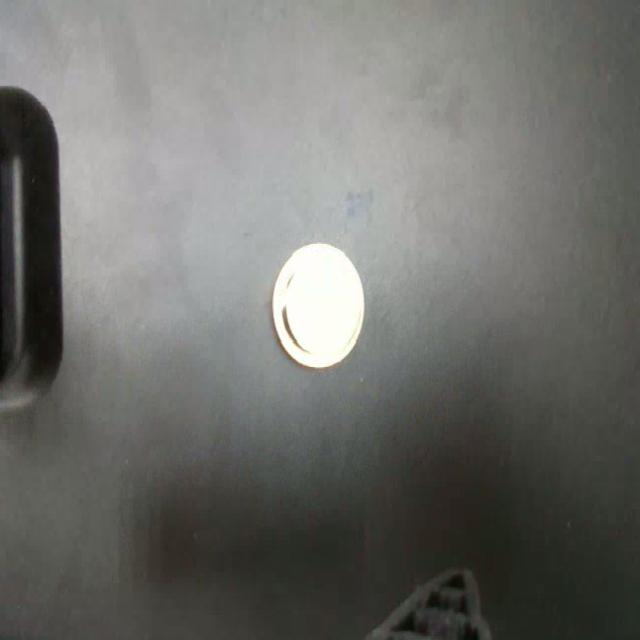sensor: (271, 240, 366, 368)
